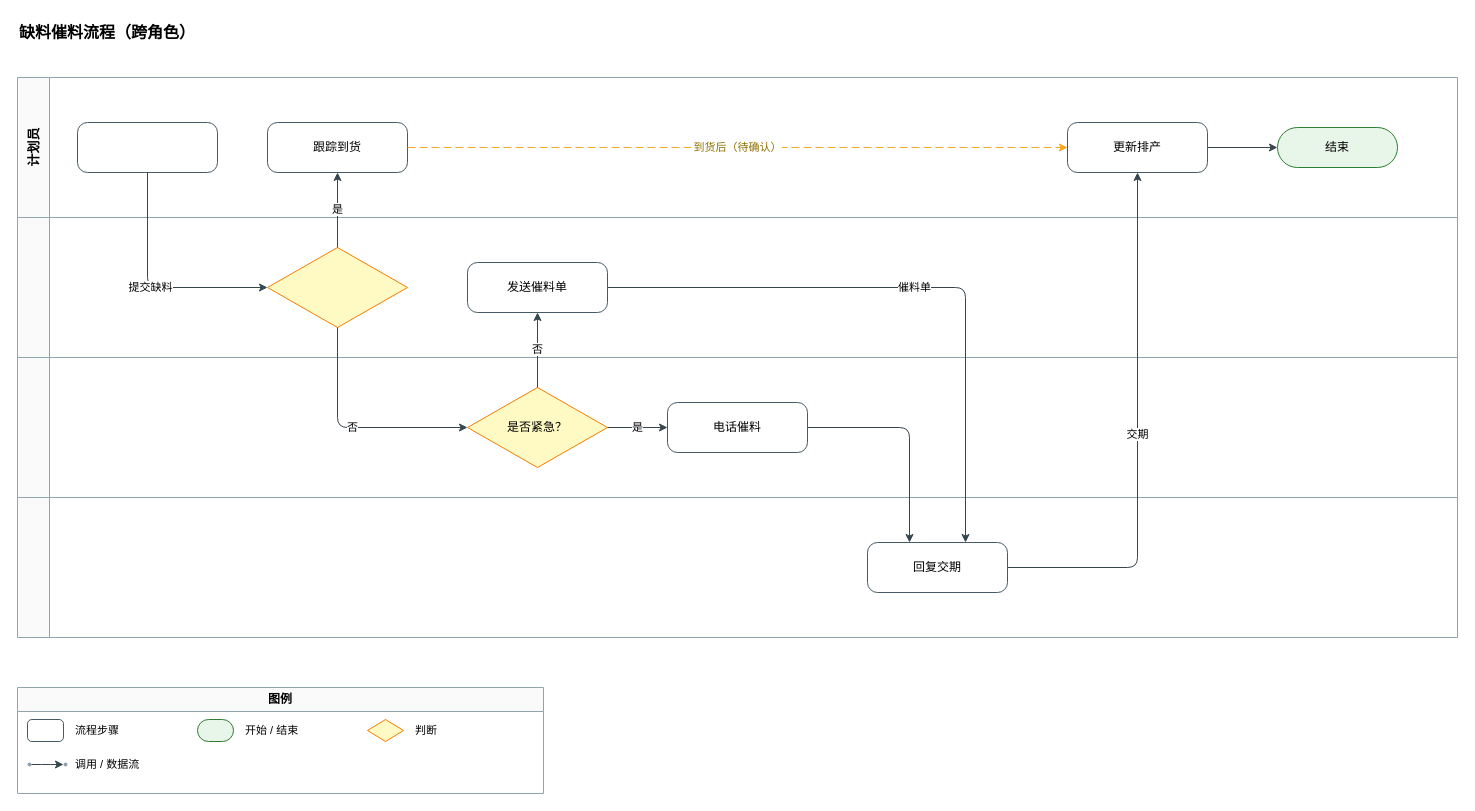
Some shapes in this 1475 by 811 pixel diagram are drawn without their labels. The shapes that lost their labels are listed below. From the top down, each one's box as (x1, y1, x2, y2) in pixels, then its label:
(76, 122, 218, 172): 发现缺料
(266, 246, 408, 328): 是否有在途？
(16, 216, 1458, 358): 系统
(16, 356, 1458, 498): 采购员
(16, 496, 1458, 638): 供应商
